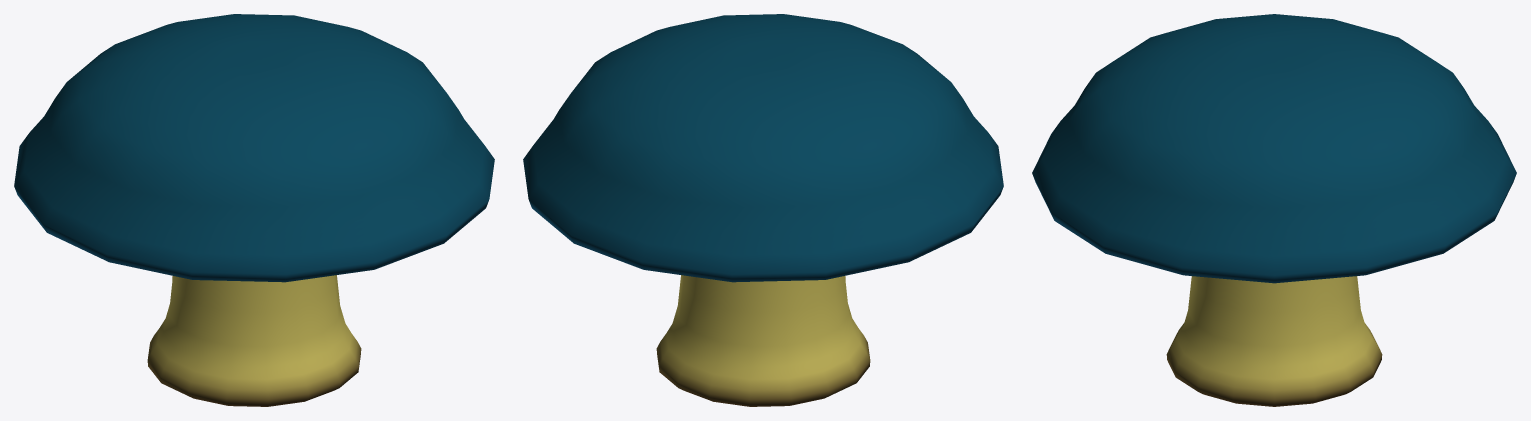
Rendered from Blue_Shroom.fbx.
3 views of the same model, side by side, from view 1: azimuth 30°, elevation 25°; view 2: azimuth 150°, elevation 25°; view 3: azimuth 270°, elevation 25° (orthographic).
Visible parts, largest first — view 1: CC_Blue_Shroom_Stool; view 2: CC_Blue_Shroom_Stool; view 3: CC_Blue_Shroom_Stool.
Boxes of the visible parts, left/top/right/bottom form: CC_Blue_Shroom_Stool: left=14, top=14, right=494, bottom=406; CC_Blue_Shroom_Stool: left=523, top=14, right=1003, bottom=406; CC_Blue_Shroom_Stool: left=1032, top=14, right=1516, bottom=406.
Bounding box in the file's own units: 77.17 × 55.07 × 77.17.
